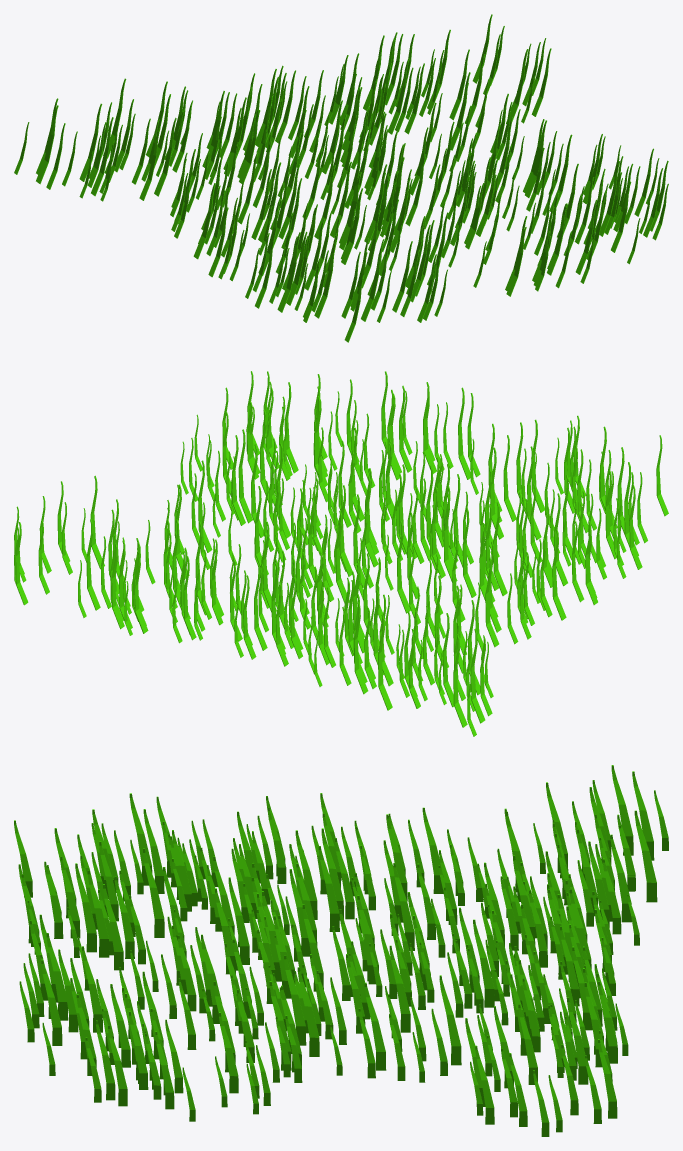
The model's file is grass2.glb.
3 renders of one model, top to bottom at view 1: azimuth 30°, elevation 25°; view 2: azimuth 150°, elevation 25°; view 3: azimuth 270°, elevation 25°, orthographic. The views are drawn at different scales.
Parts seen in each view (by area): view 1: Plane.002; view 2: Plane.002; view 3: Plane.002.
Part boxes in pixels (x1,y1,x2,y2): Plane.002: (14,14,668,342); Plane.002: (14,371,668,736); Plane.002: (14,765,668,1136).
Size of the model in its own units: 13.14 by 2.12 by 12.45.
